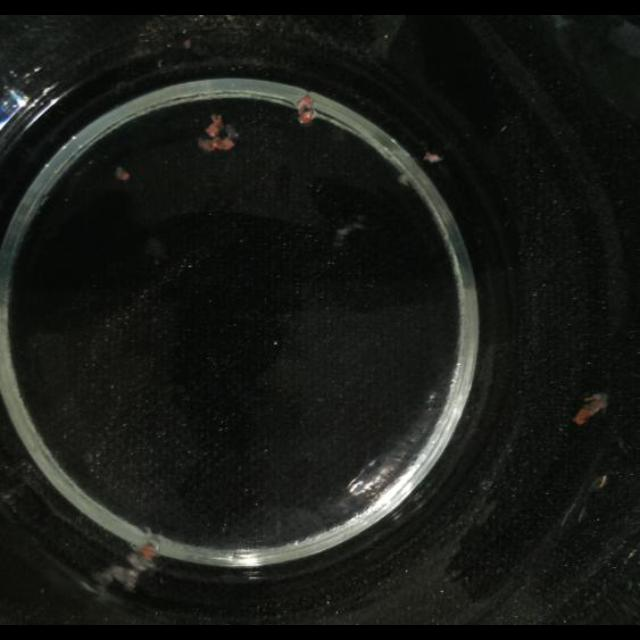Fragment: (92, 519, 164, 597), (197, 112, 239, 154), (575, 388, 617, 424), (292, 94, 322, 132), (115, 166, 131, 182), (422, 152, 442, 164)
